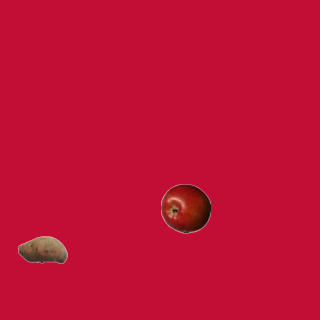Apple Braeburn: (160, 183, 210, 233)
Potato Sweet: (17, 224, 67, 274)
